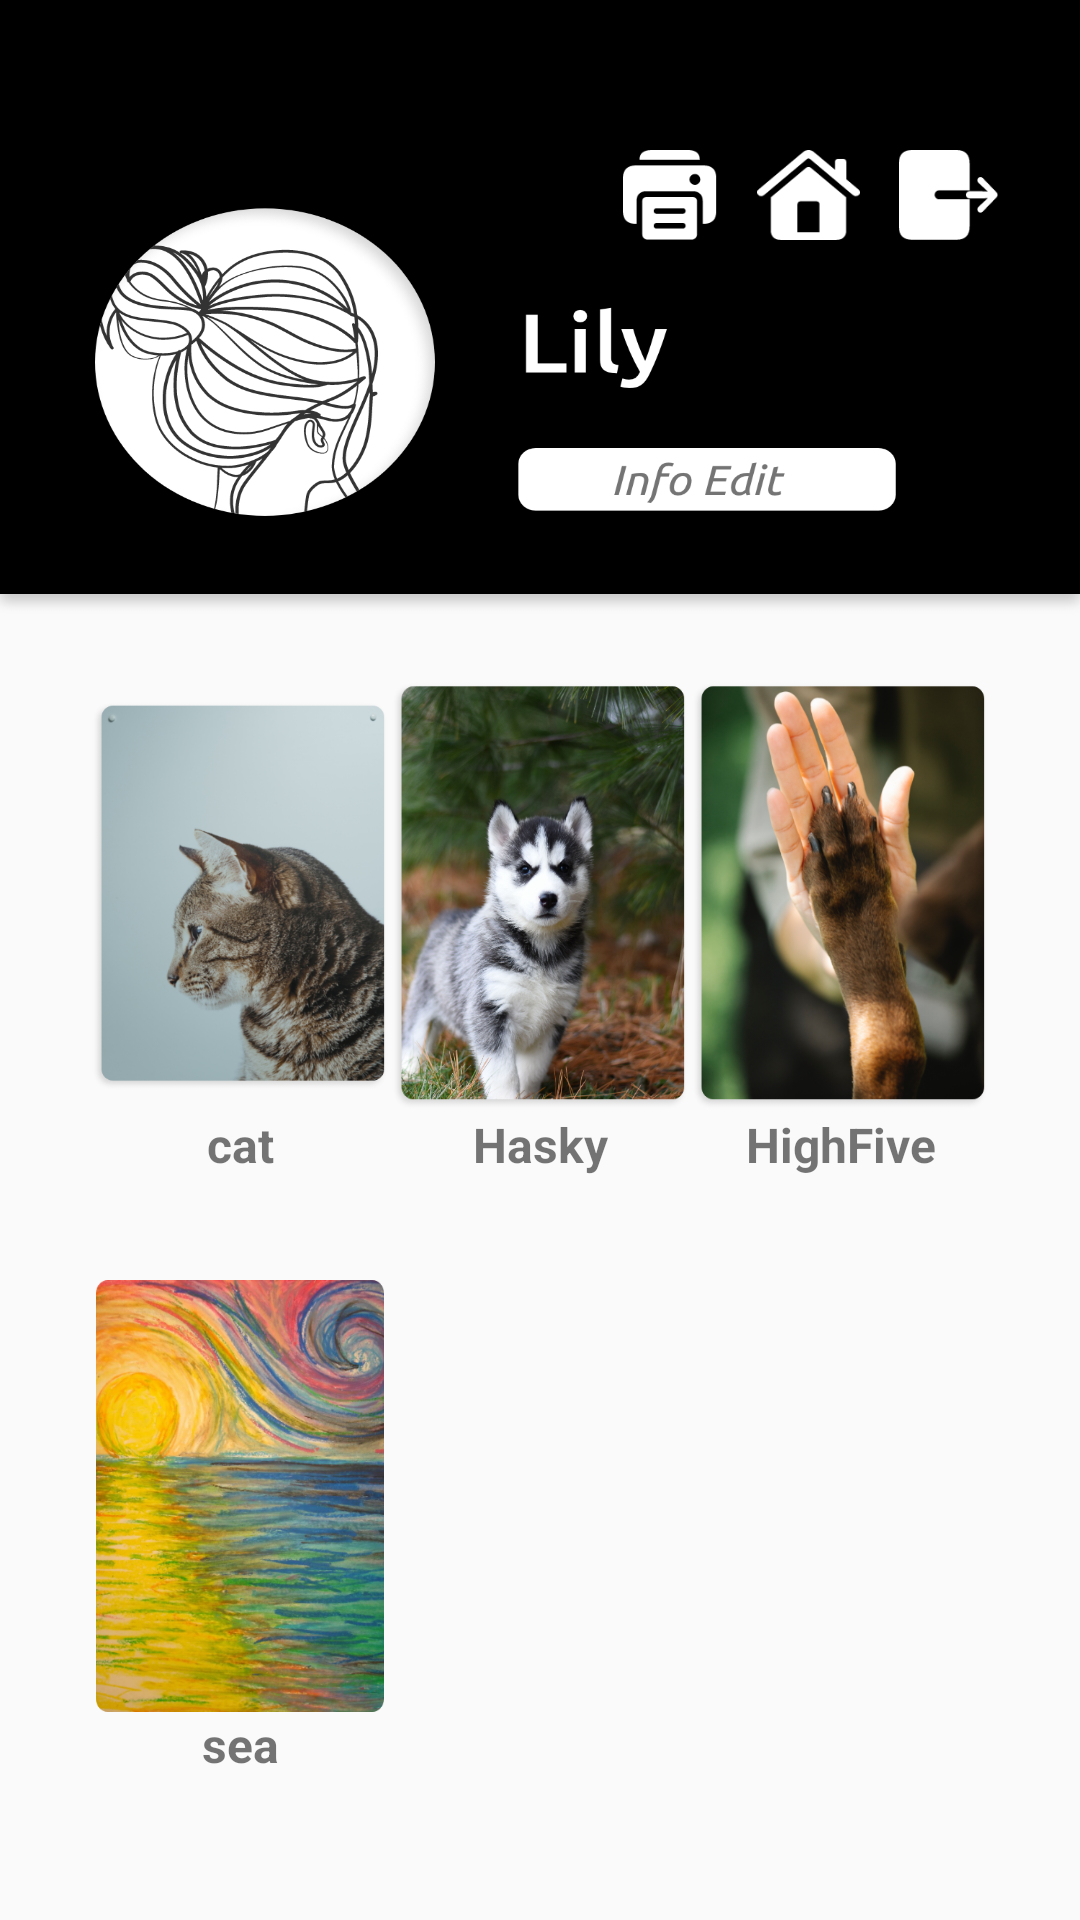

Icons on this 1080*1920 Android screen, each with its box as (left=x1, top=y1, right=x2, bottom=y2):
home: (left=757, top=150, right=860, bottom=240)
out: (left=899, top=150, right=998, bottom=240)
printer: (left=623, top=150, right=717, bottom=240)
